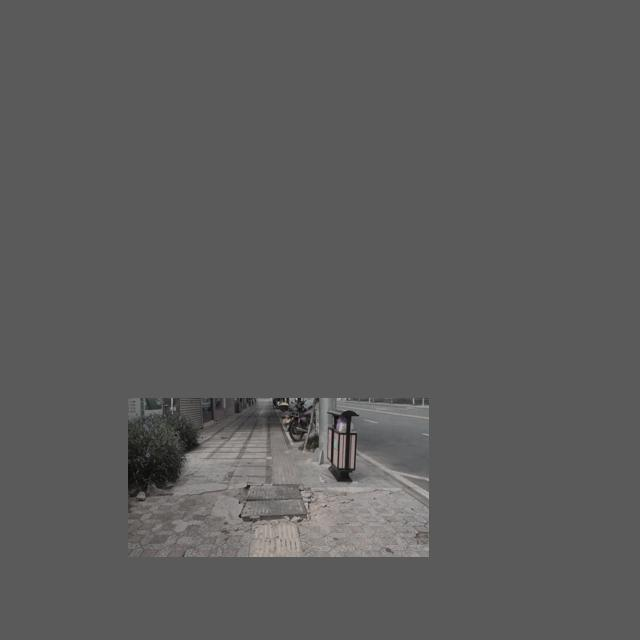circle: (227, 474, 326, 538)
